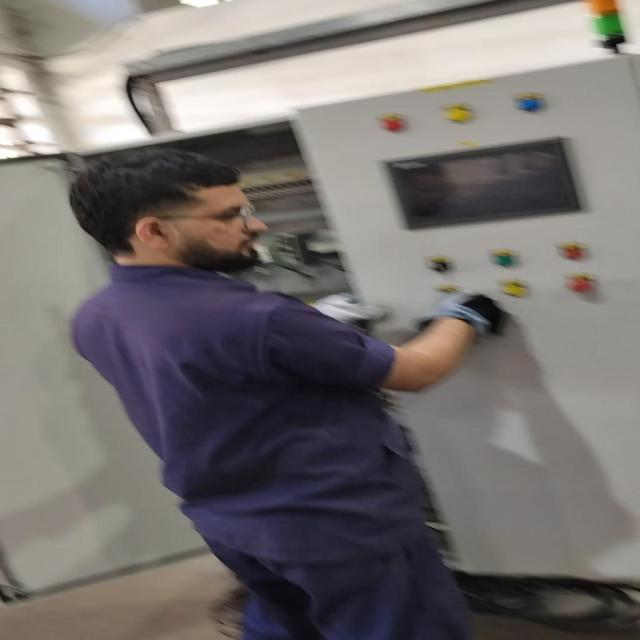Gloves-Detection: (401, 281, 491, 340)
